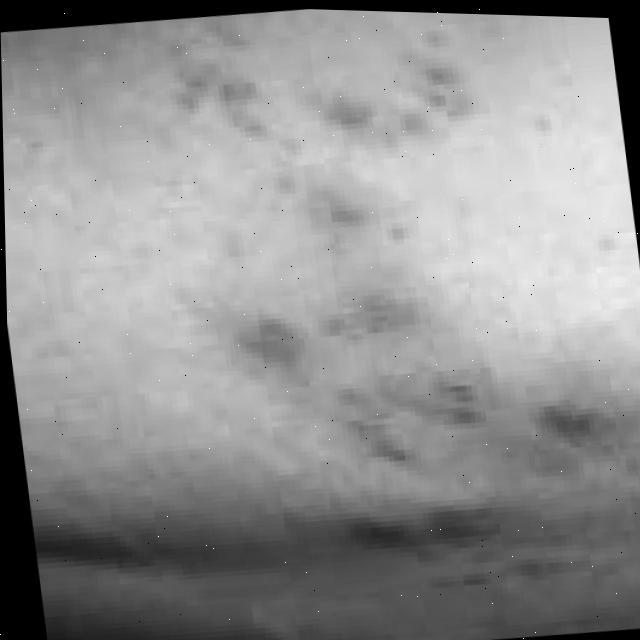Shingles: (163, 5, 629, 505)
